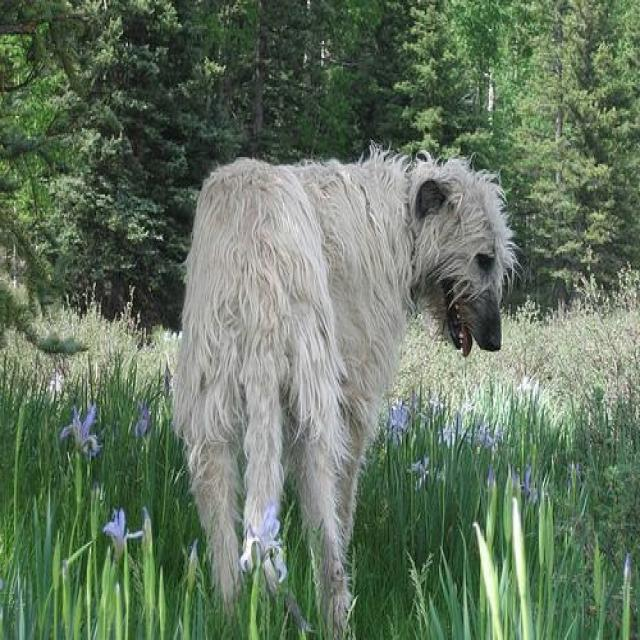irish_wolfhound: (168, 144, 522, 638)
